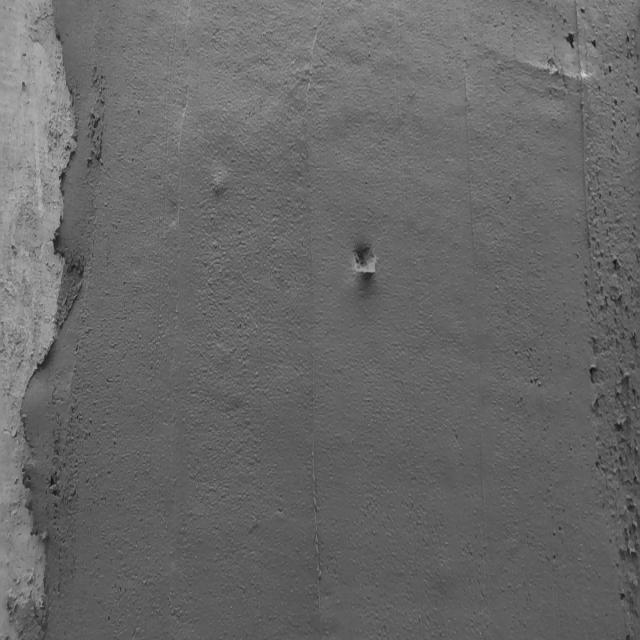trowels marks: (294, 58, 328, 640), (568, 4, 607, 488)
